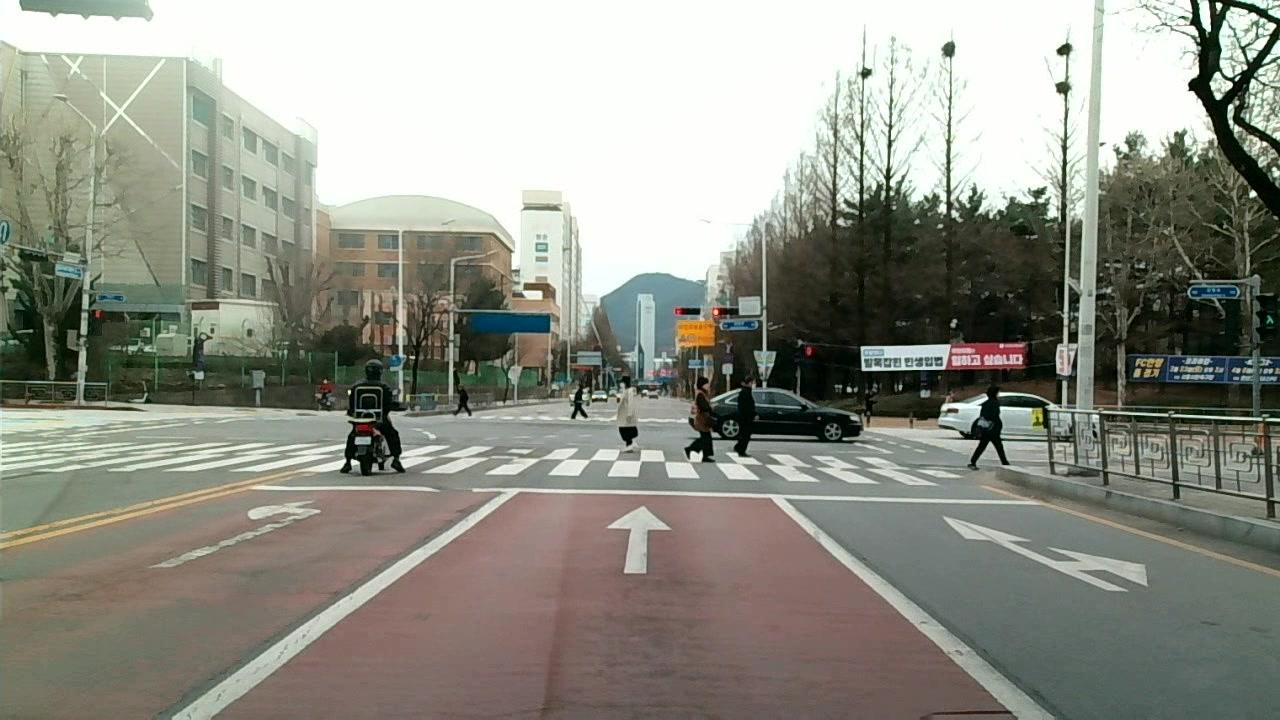banner: (856, 335, 1027, 377), (1126, 347, 1280, 386)
